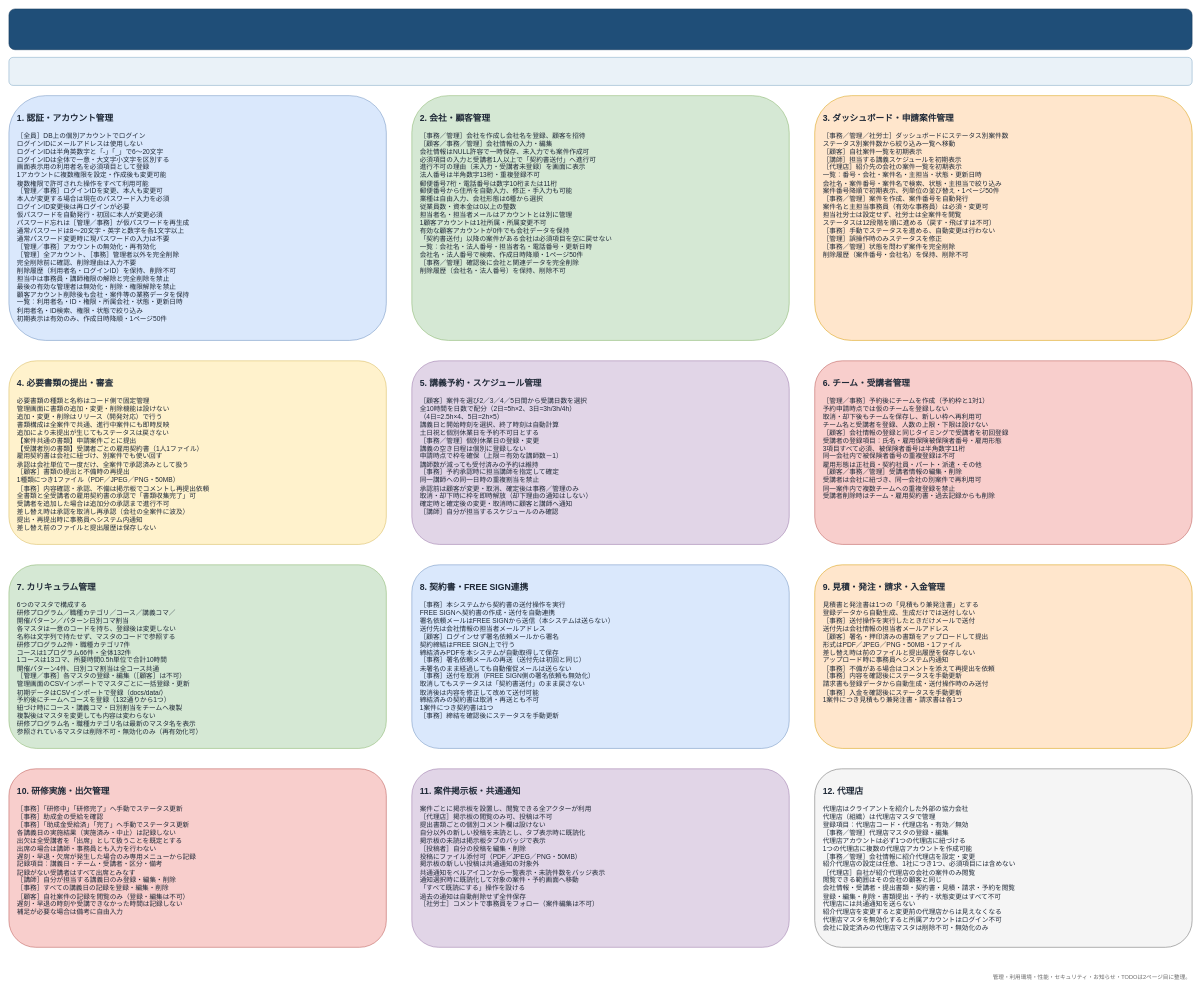
The diagram is 1201 pixels wide and 995 high, and some of its shapes have lost their labels. Here are the shapes that lost their labels. From the top down, the box of each, then its label:
(8, 8, 1192, 50): 助成金管理システム 機能一覧（業務機能） 出典：01_要件定義.md ／ 2026-09-02時点
(8, 57, 1192, 85): アクター ［顧客］クライアント ［事務］事務員 ［管理］システム管理者 ［講師］講師 ［社労士］社会保険労務士 ［代理店］代理店 ［全員］全アクター
